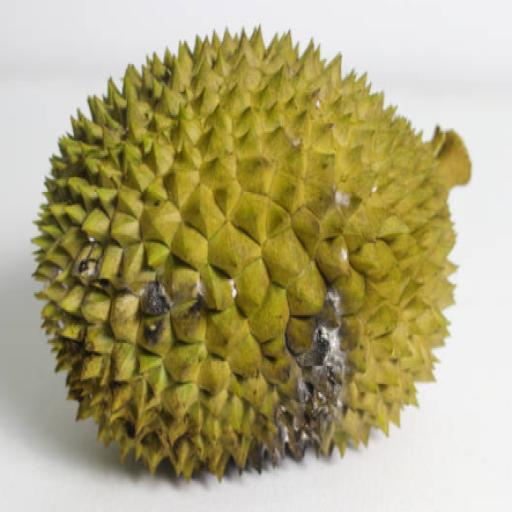mold: (17, 10, 490, 494)
